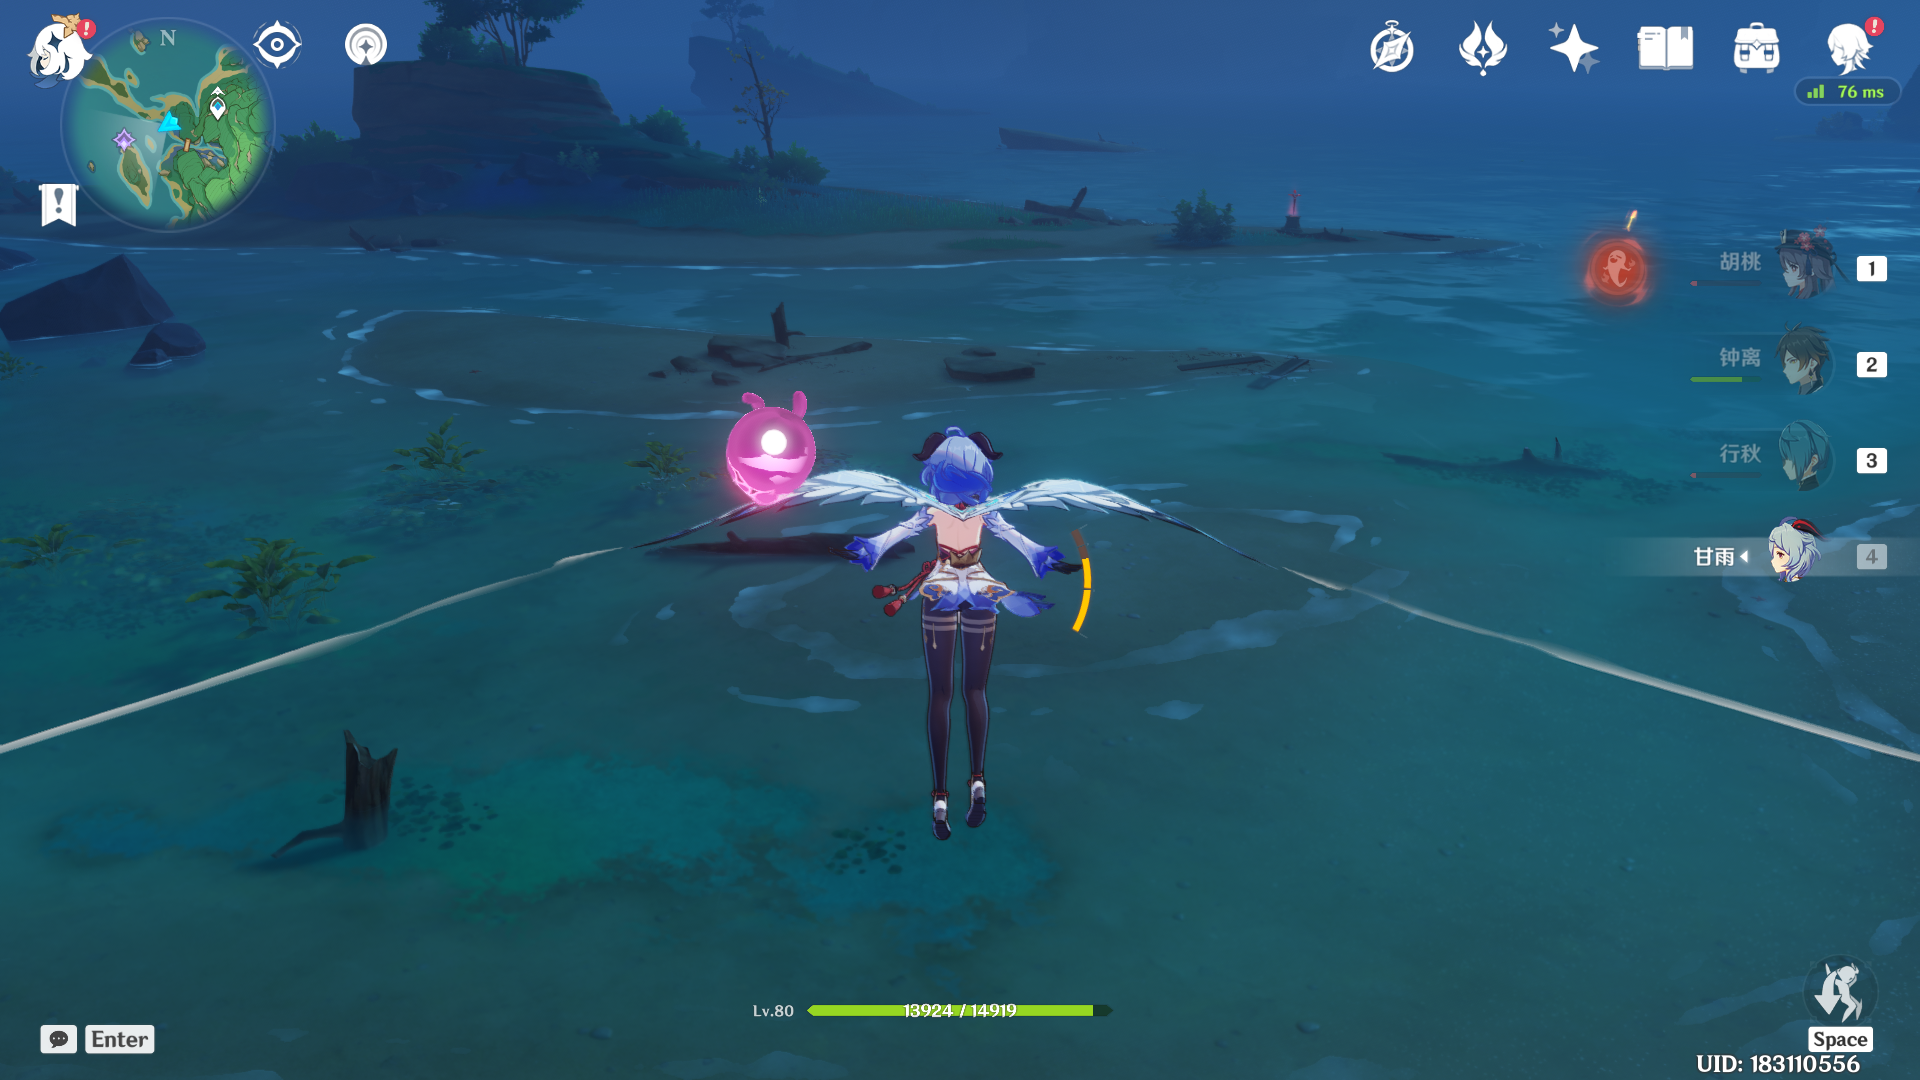character: (815, 392, 1120, 905)
